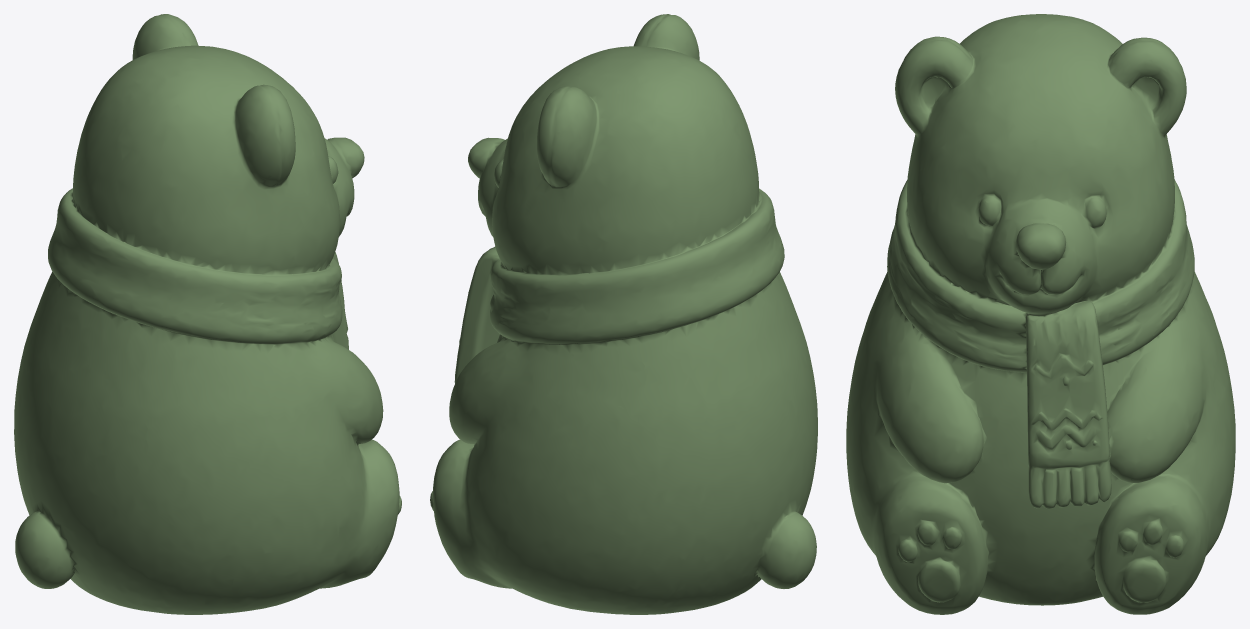
File: polar-bear-friend.glb
The picture shows the model from 3 angles, left to right: view 1: azimuth 30°, elevation 25°; view 2: azimuth 150°, elevation 25°; view 3: azimuth 270°, elevation 25°; orthographic projection. The views are drawn at different scales.
Visible parts, largest first — view 1: tripo_printable_source; view 2: tripo_printable_source; view 3: tripo_printable_source.
Boxes of the visible parts, left/top/right/bottom form: tripo_printable_source: left=14, top=14, right=401, bottom=614; tripo_printable_source: left=430, top=14, right=817, bottom=614; tripo_printable_source: left=846, top=14, right=1235, bottom=614.
Bounding box in the file's own units: 70 × 100 × 66.68.
